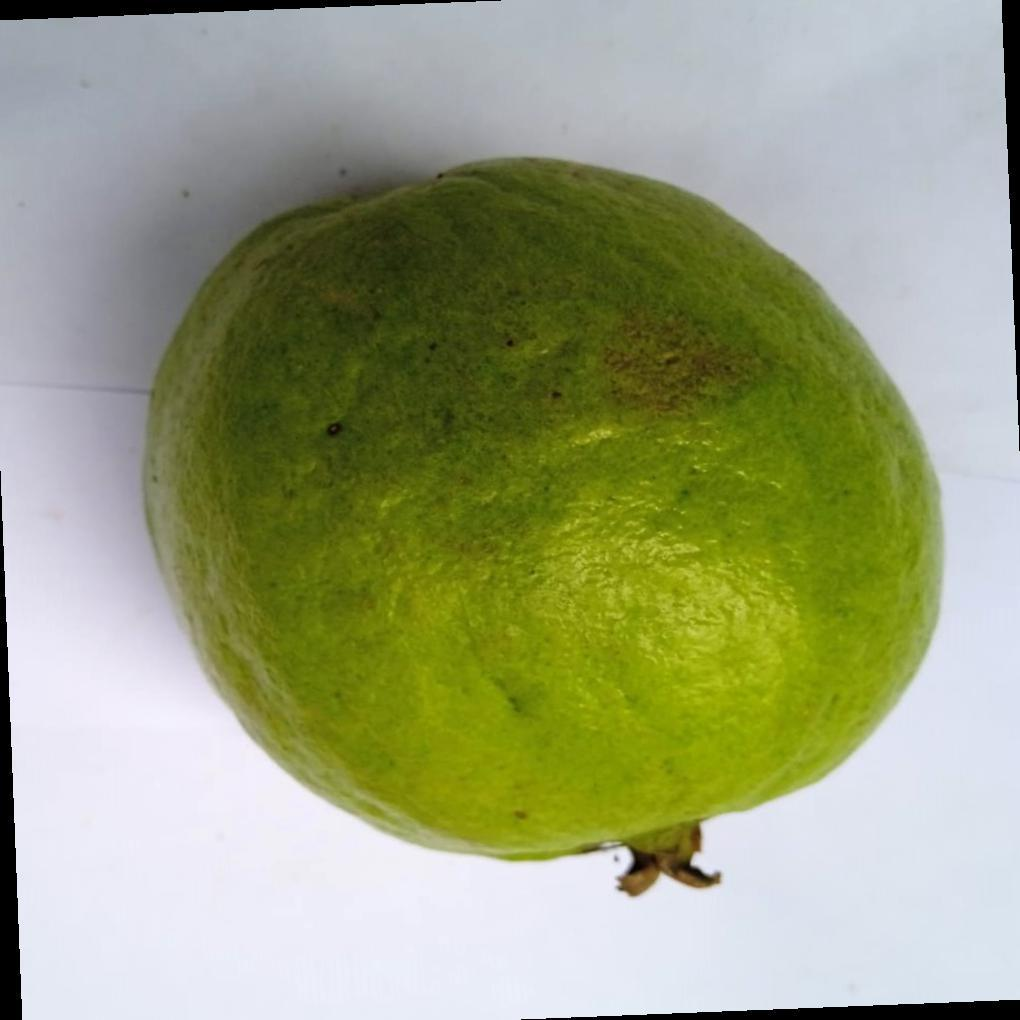FreshGuava: (140, 156, 946, 895)
